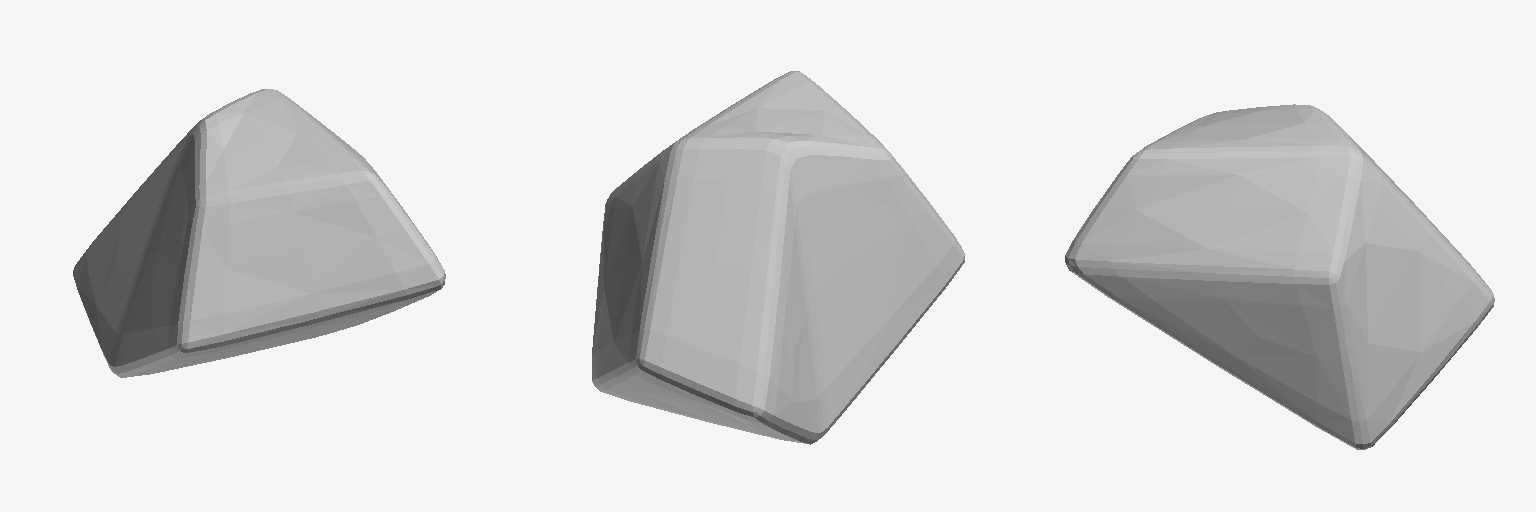
Rendered from rock-tree1-02.obj.
3 views of the same model, side by side, from view 1: azimuth 30°, elevation 25°; view 2: azimuth 150°, elevation 25°; view 3: azimuth 270°, elevation 25° (orthographic).
Parts seen in each view (by area): view 1: rock_tree1_02 Rocks; view 2: rock_tree1_02 Rocks; view 3: rock_tree1_02 Rocks.
Part boxes in pixels (bbox=[...]): rock_tree1_02 Rocks: bbox=[73, 89, 445, 377]; rock_tree1_02 Rocks: bbox=[592, 71, 964, 444]; rock_tree1_02 Rocks: bbox=[1065, 104, 1494, 449].
Size of the model in its own units: 0.5537 by 0.5214 by 0.7497.